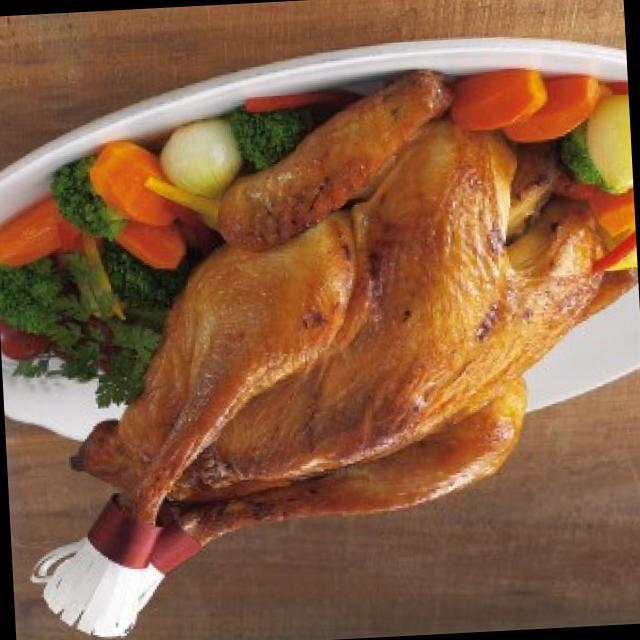Chicken: (76, 70, 619, 588)
